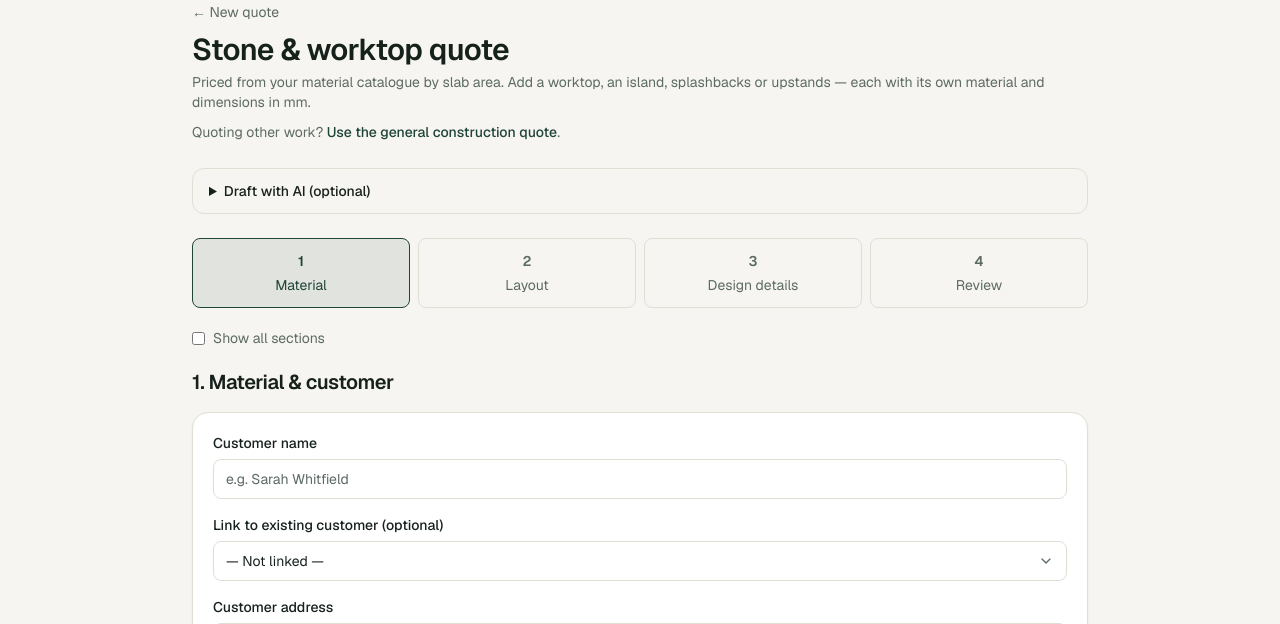
Scenario: NewQuotePage — multi-item editor (Sprint 033) › shows not-found for a missing product without fabricating a match
The width and height of the screenshot is (1280, 624).
Click the heading "Draft with AI (optional)": click(297, 191) [192,168,1088,214]
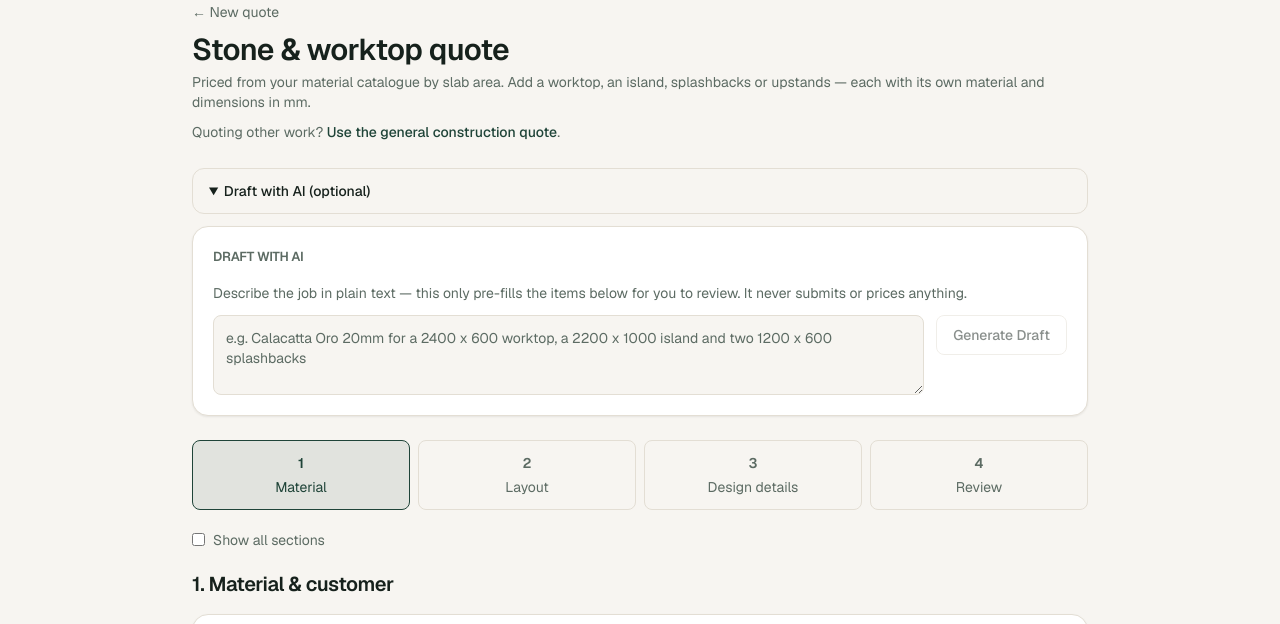
Click the checkbox labelled "Show all sections": click(198, 540) [192,533,205,546]
(page scrolled)
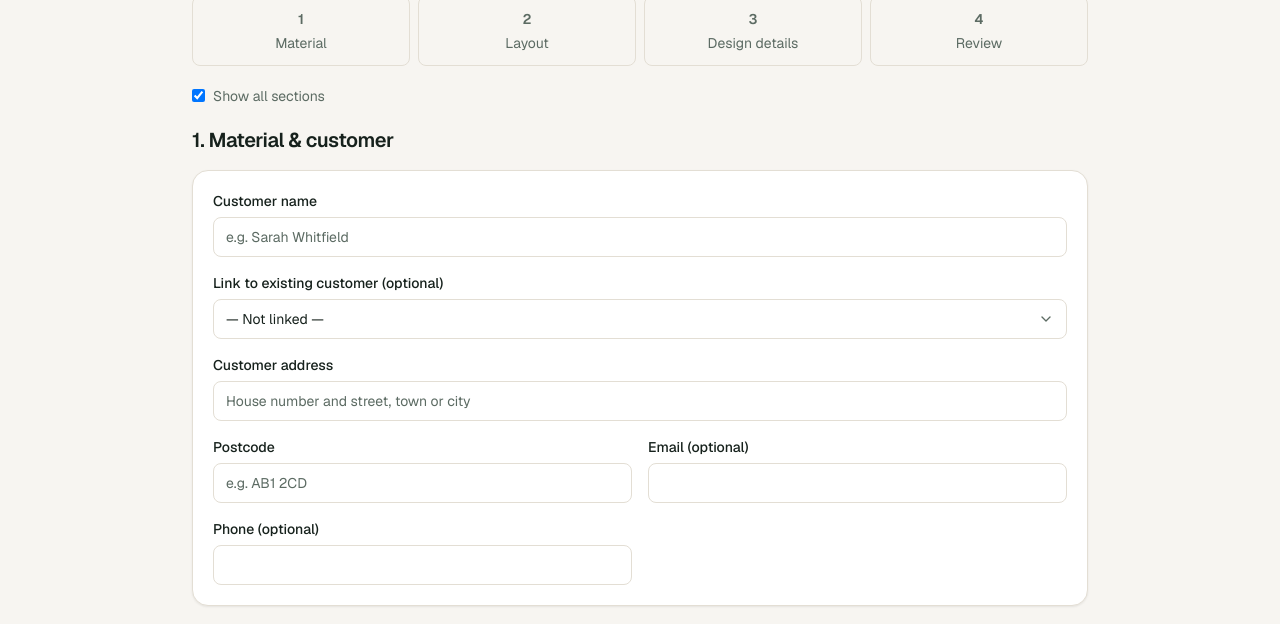
In the field labelled "Customer address": (640, 400) [213,380,1067,420], type "1 Synthetic Street, London"
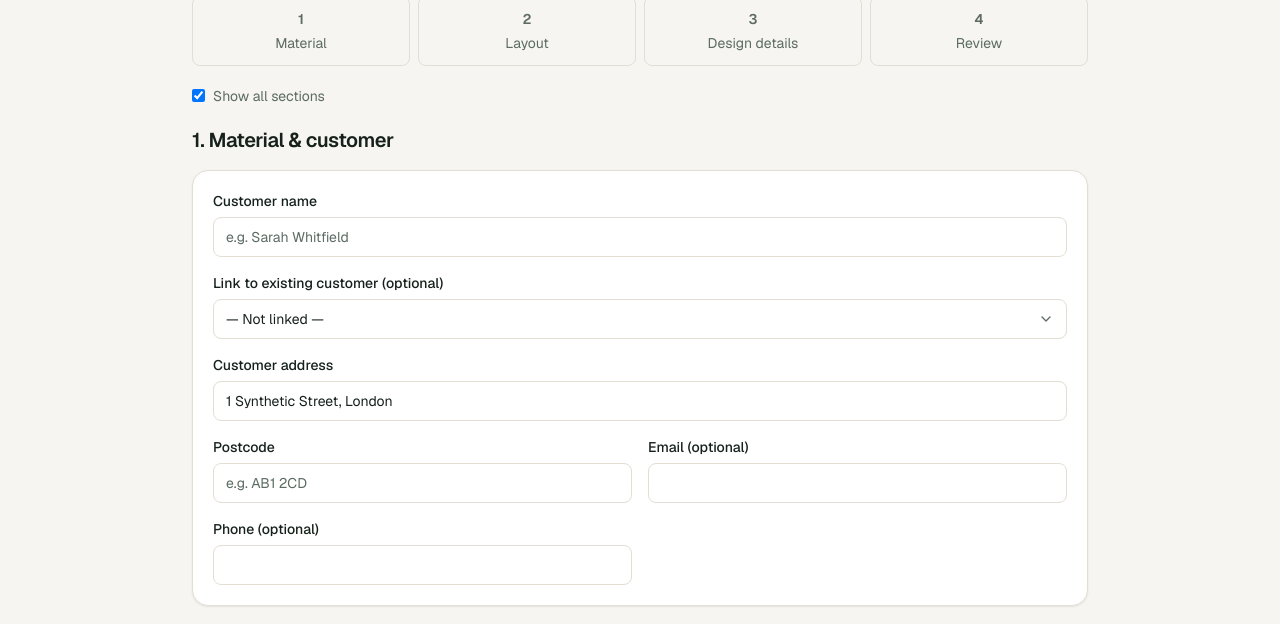
In the field labelled "Postcode": (422, 482) [213,462,632,502], type "NW2 7RP"
(page scrolled)
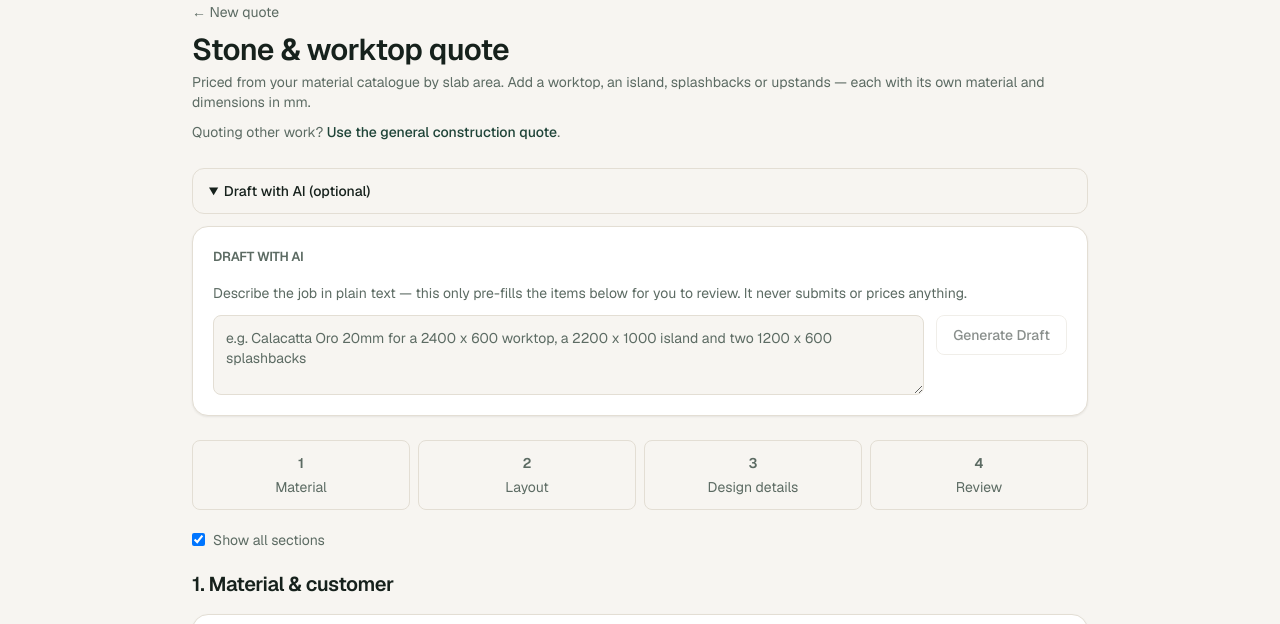
In the text box with placeholder "Calacatta Oro 20mm": (569, 354) [213,314,924,394], type "missing product"
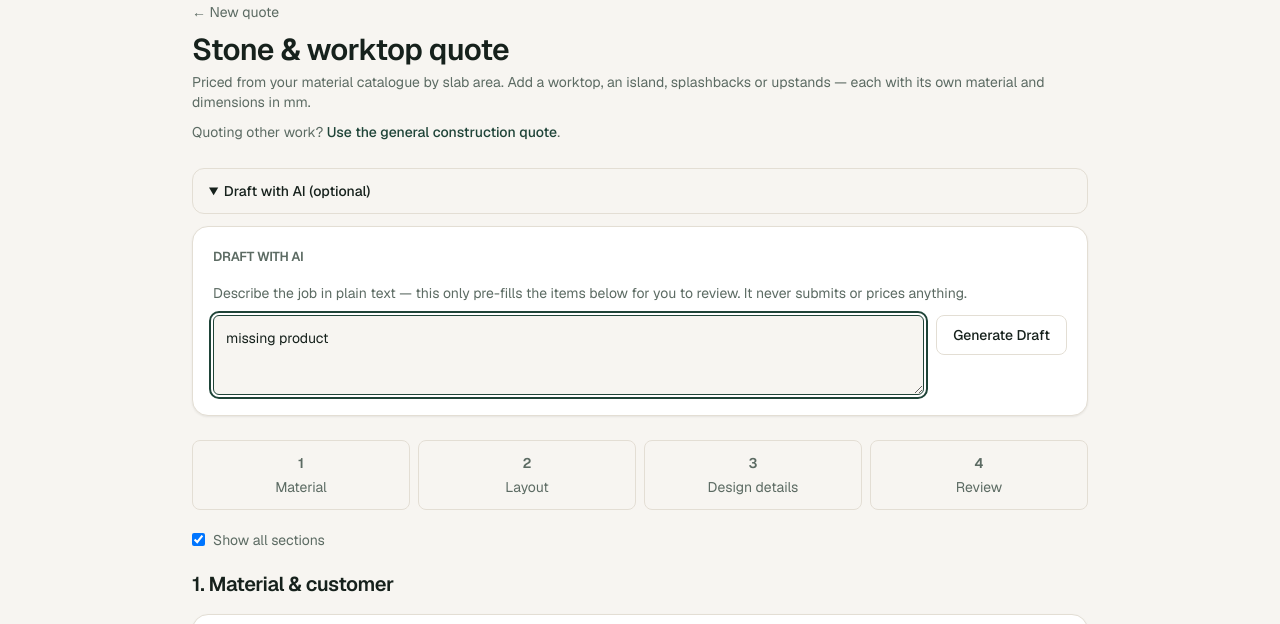
Click the button "Generate Draft": click(1002, 334) [936,314,1067,354]
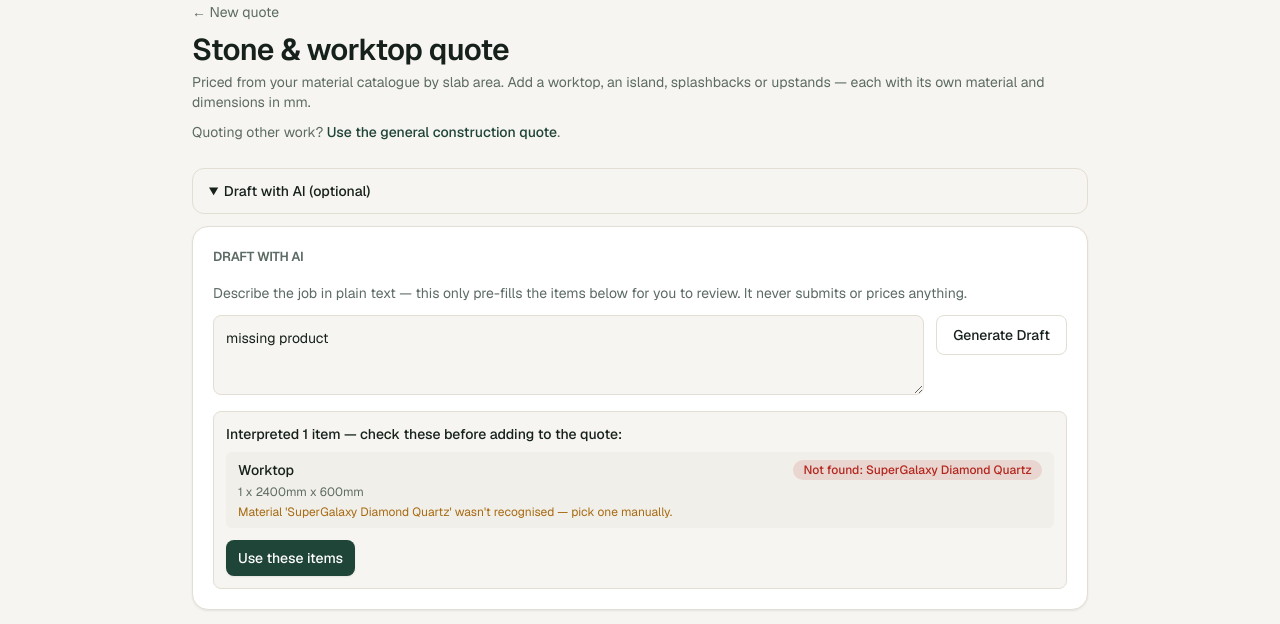
Result: the text "Not found: SuperGalaxy Diamond Quartz" is shown at [793,460,1042,480]
